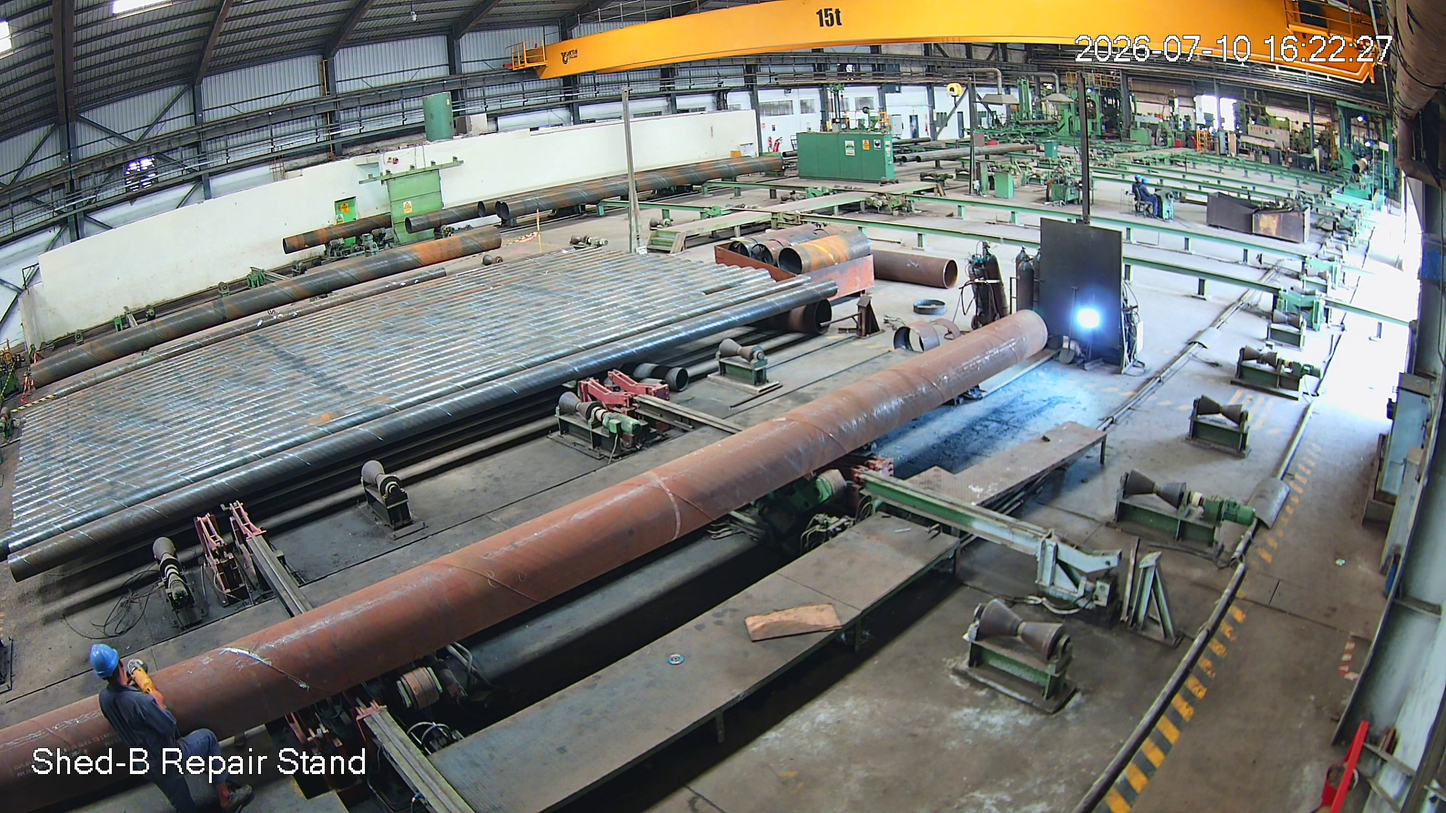Helmet: (84, 642, 159, 704)
Person: (89, 637, 247, 813)
